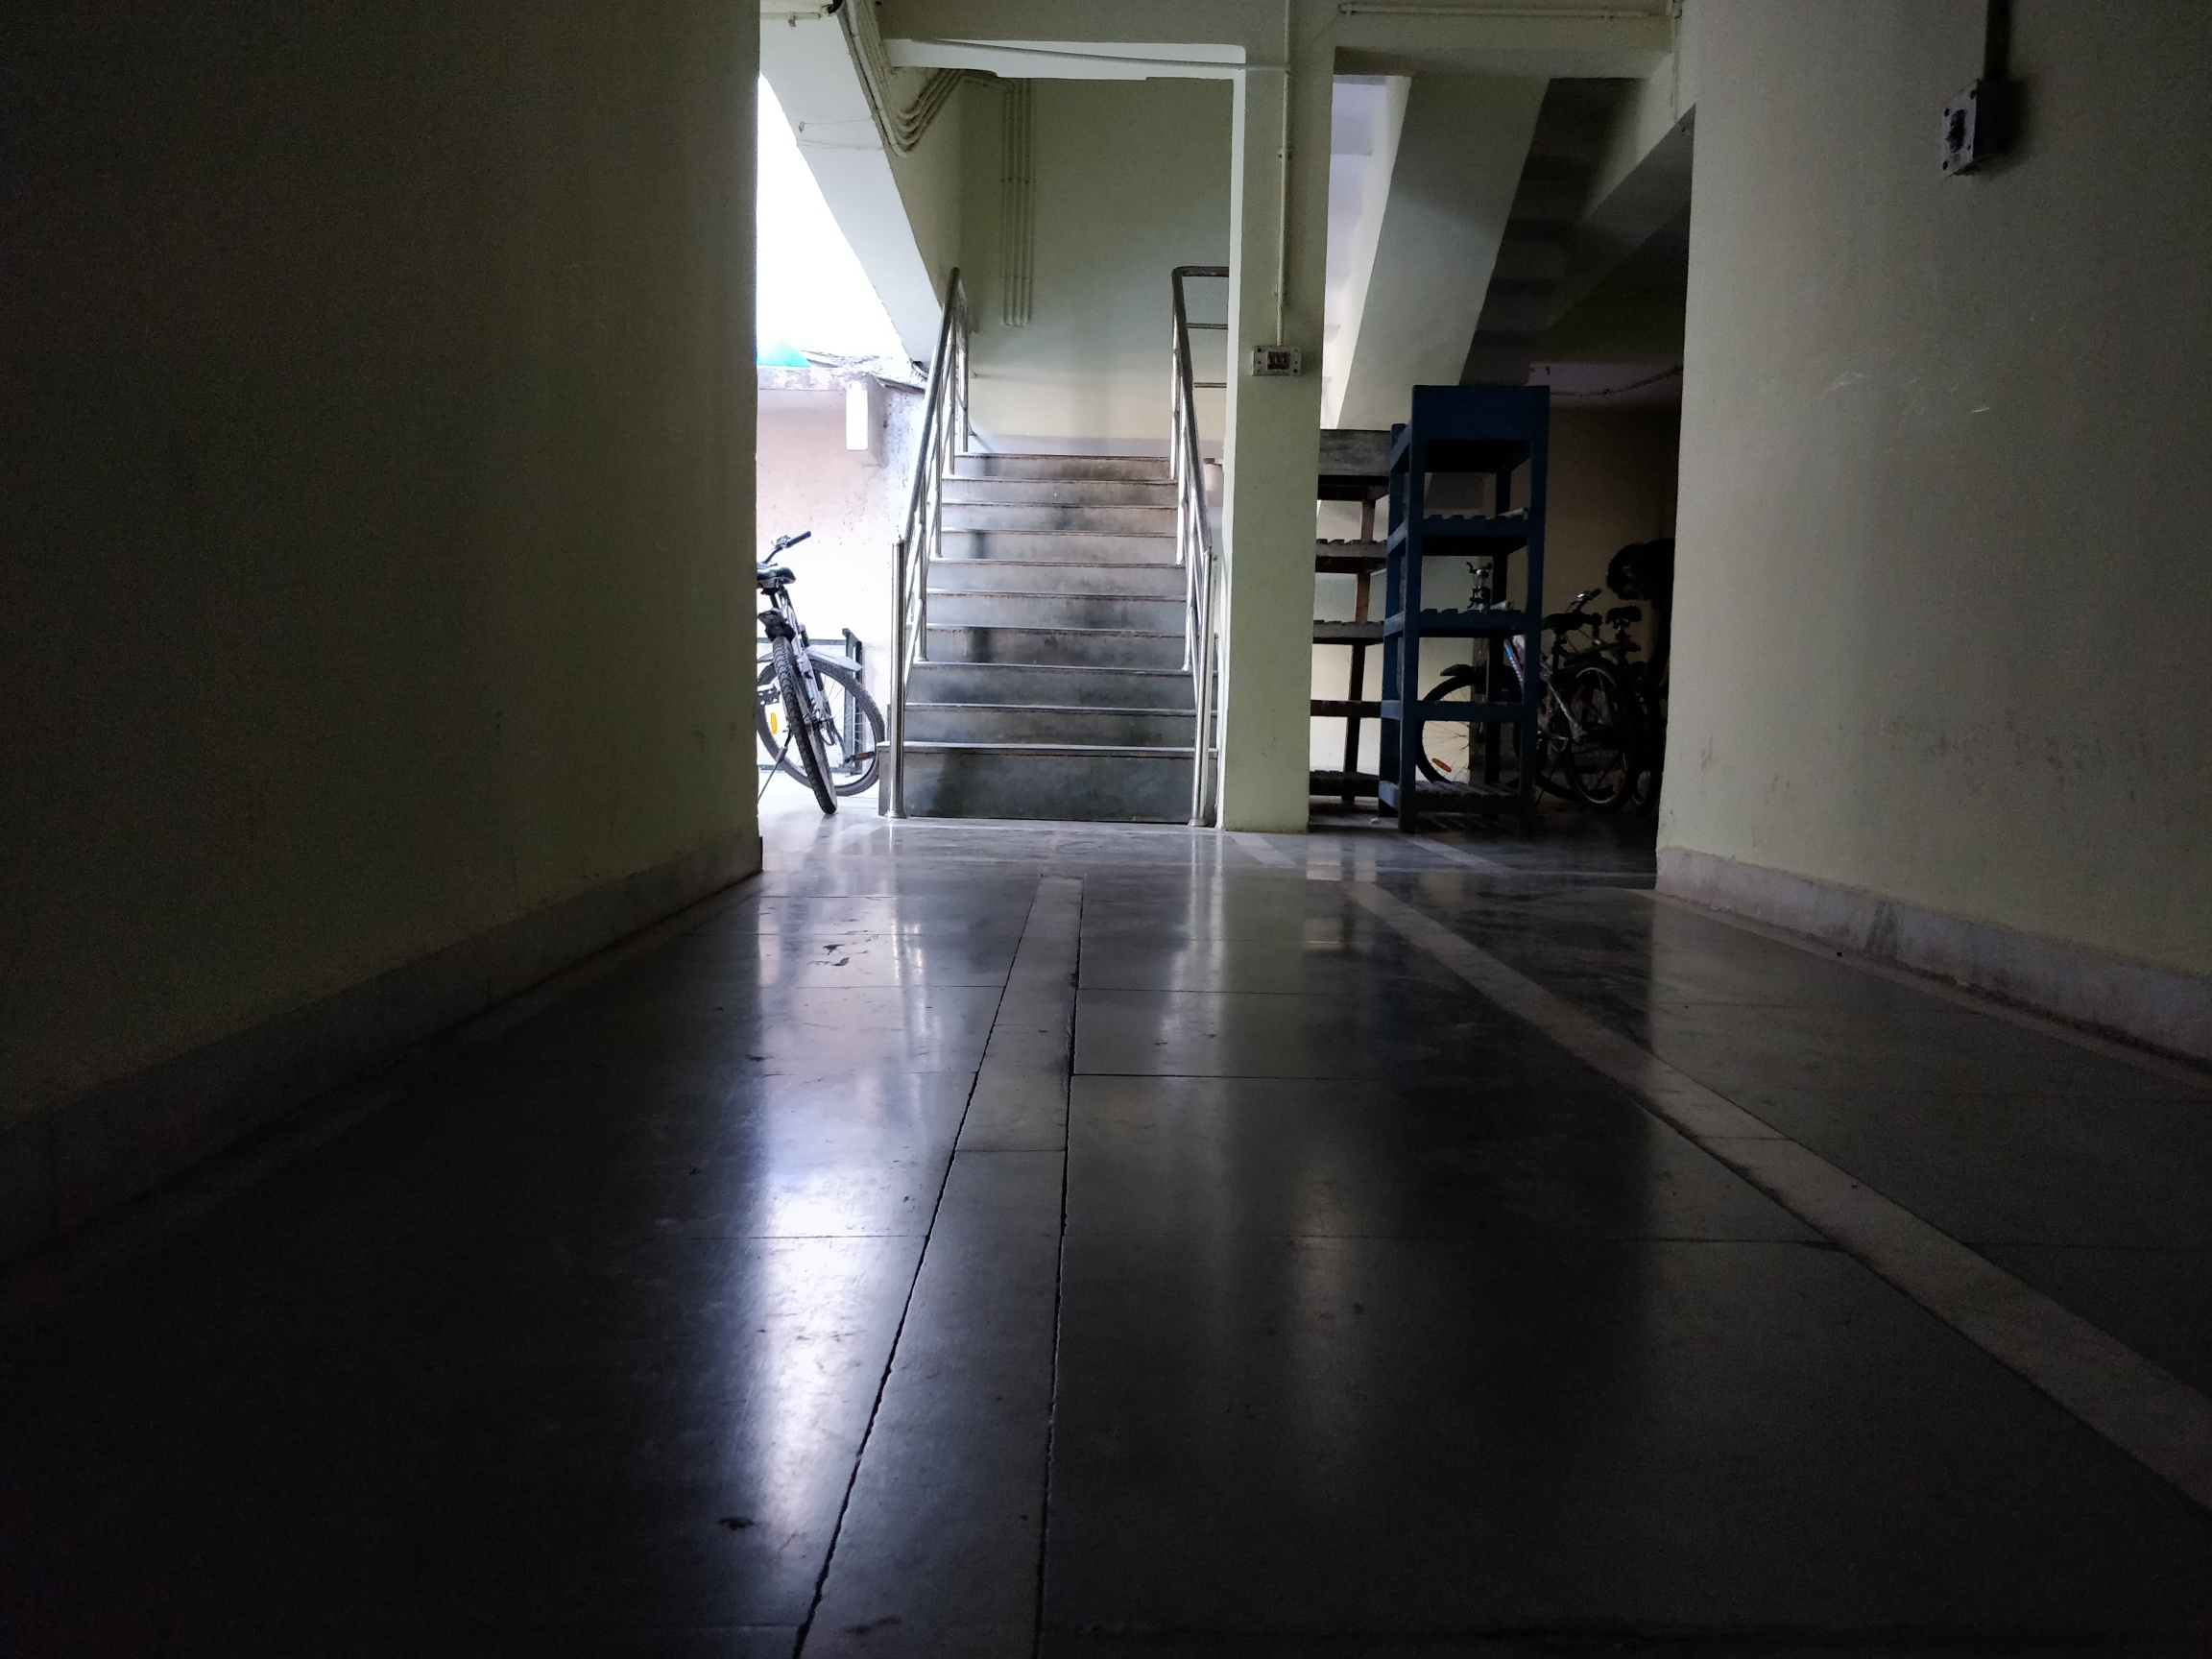stairs_up: (911, 443, 1177, 833)
